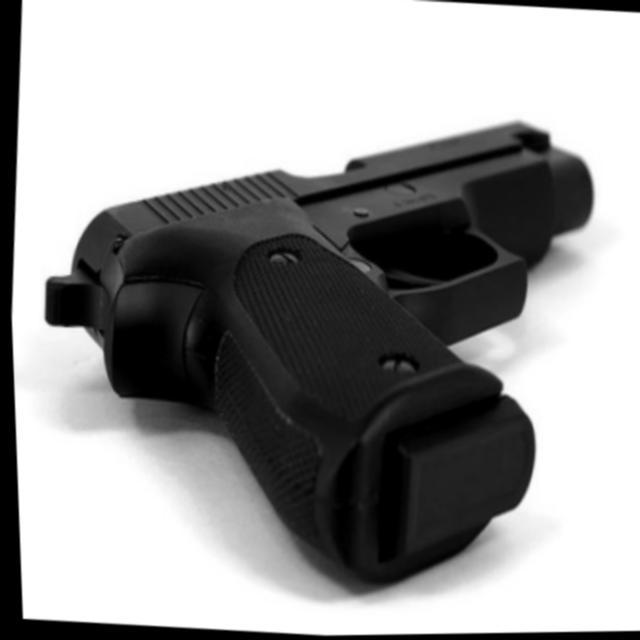weapon: (16, 84, 608, 603)
